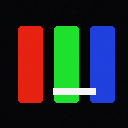3 line_h: (53, 88, 95, 94)
